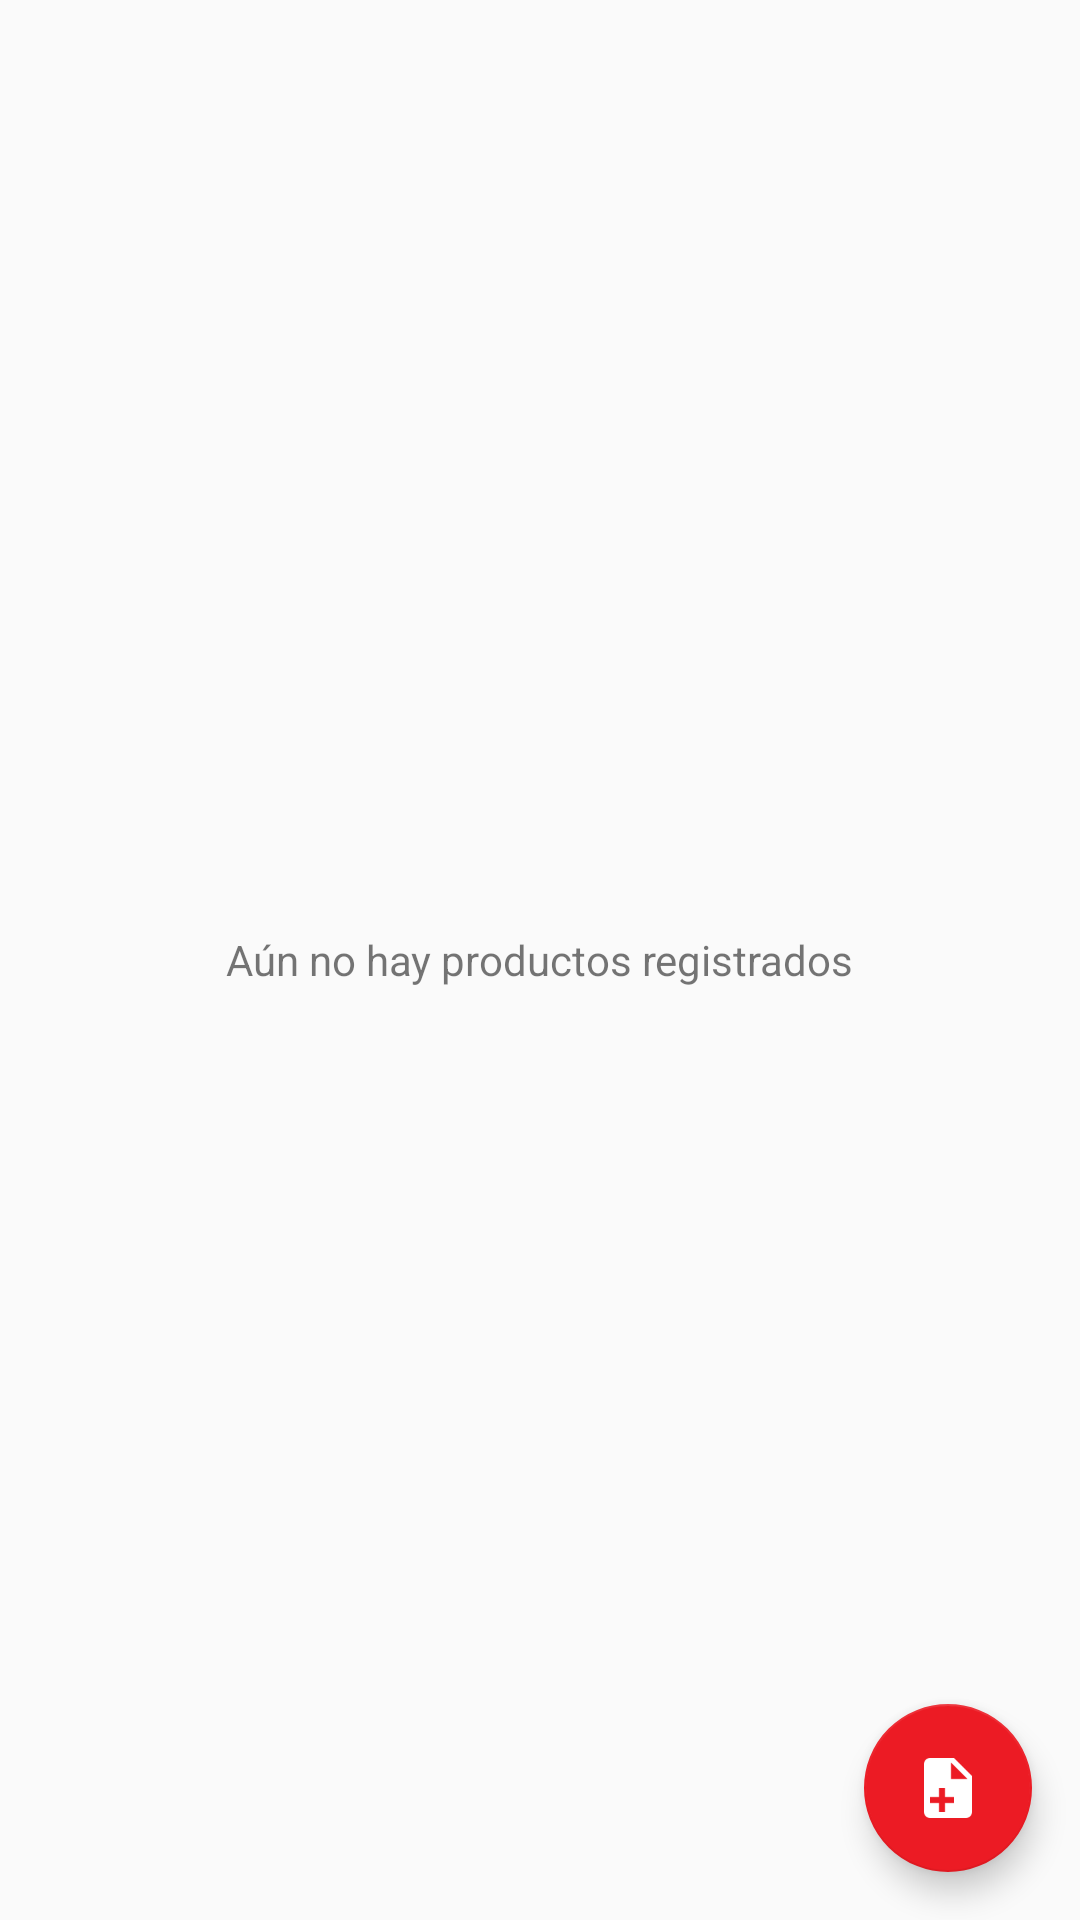

Icon click points for this 1080*1920 phone screenshot, format point (x, y):
file plus: point (948, 1788)
